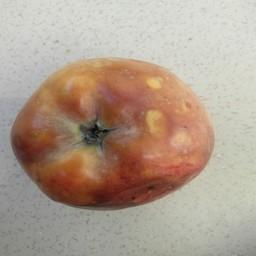Bad_apple: (13, 55, 215, 209)
